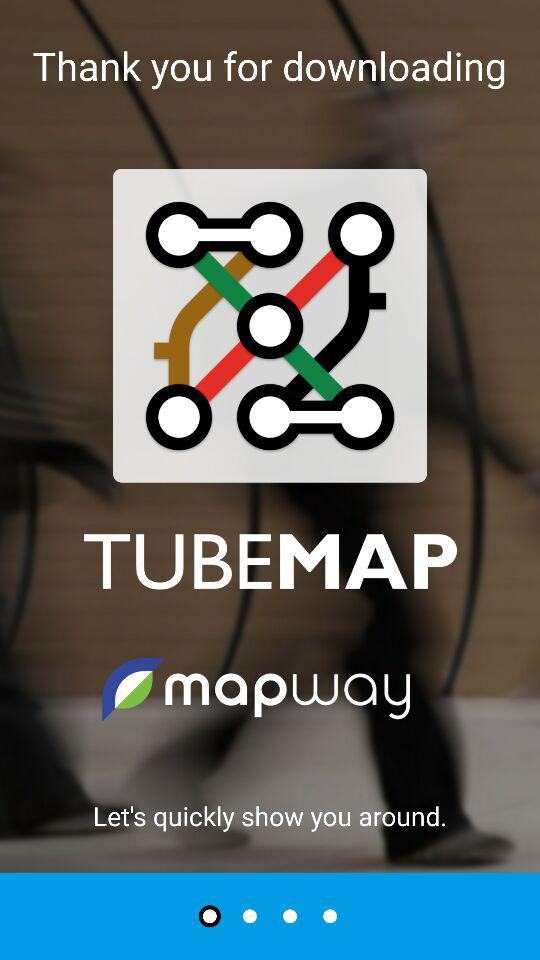BackgroundImage: (1, 1, 540, 873)
Image: (113, 169, 428, 484), (102, 657, 411, 720)
PageIndicator: (198, 904, 339, 928)
Text: (84, 534, 458, 591), (33, 51, 505, 91), (95, 806, 446, 833)
